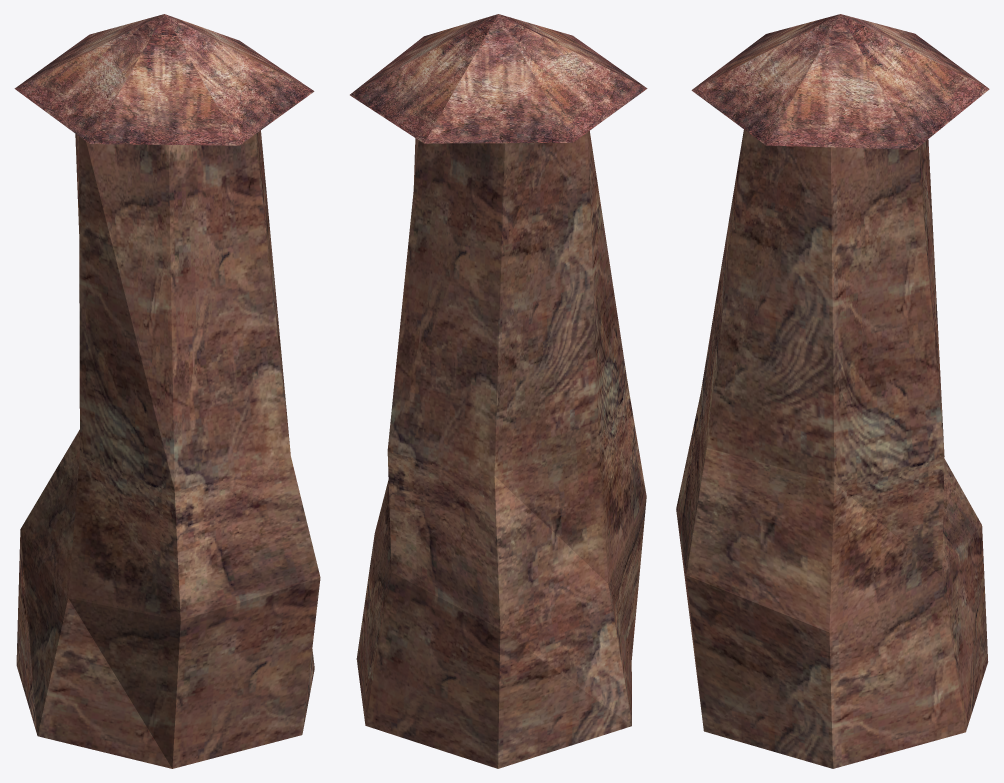
Rendered from thm_dath_night_sister_guard_tower_s01_l4.fbx.
The picture shows the model from 3 angles, left to right: view 1: azimuth 30°, elevation 25°; view 2: azimuth 150°, elevation 25°; view 3: azimuth 270°, elevation 25°; orthographic projection.
Visible parts, largest first — view 1: mesh_node; view 2: mesh_node; view 3: mesh_node.
Boxes of the visible parts, x1,y1,x2,y2 form: mesh_node: [14, 14, 320, 768]; mesh_node: [350, 14, 647, 768]; mesh_node: [676, 14, 989, 768].
Size of the model in its own units: 6.96 by 16.5 by 6.86.
2 materials, 2 textured.
